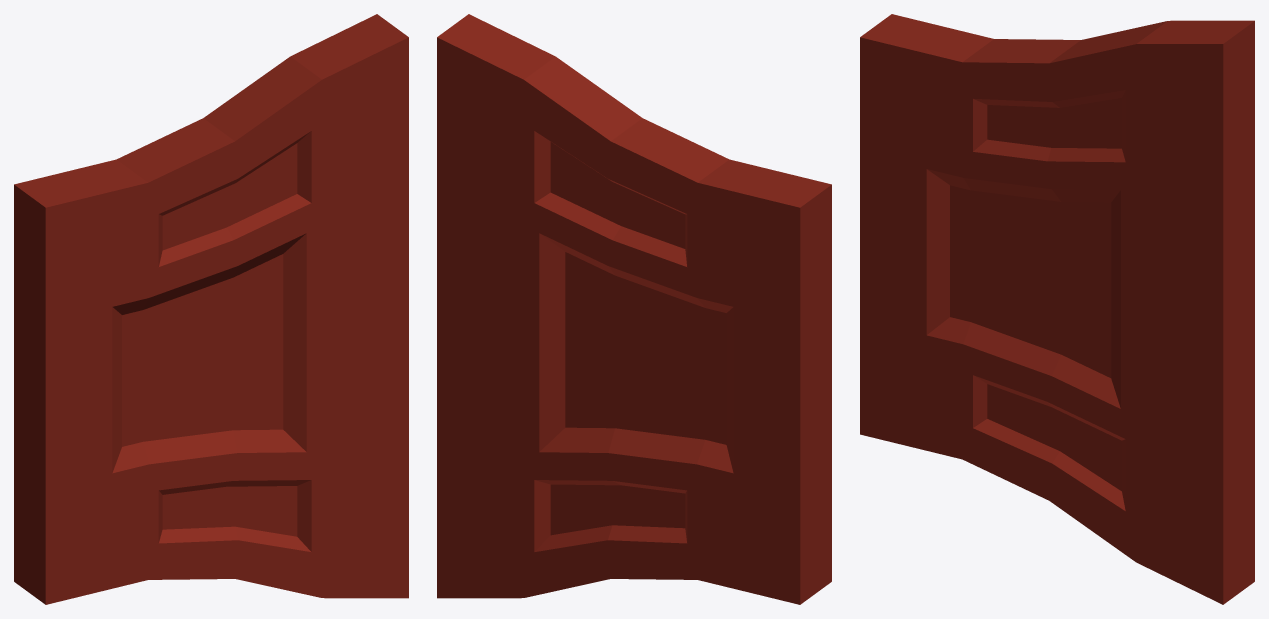
Rendered from SaloonDoor.fbx.
3 renders of one model, left to right at view 1: azimuth 30°, elevation 25°; view 2: azimuth 150°, elevation 25°; view 3: azimuth 330°, elevation 25°, orthographic.
Visible parts, largest first — view 1: SaloonDoorL; view 2: SaloonDoorL; view 3: SaloonDoorL.
Boxes of the visible parts, bbox=[...] form: SaloonDoorL: bbox=[14, 14, 408, 604]; SaloonDoorL: bbox=[437, 14, 831, 604]; SaloonDoorL: bbox=[860, 14, 1254, 604].
Size of the model in its own units: 4.33 by 6.39 by 0.657.
